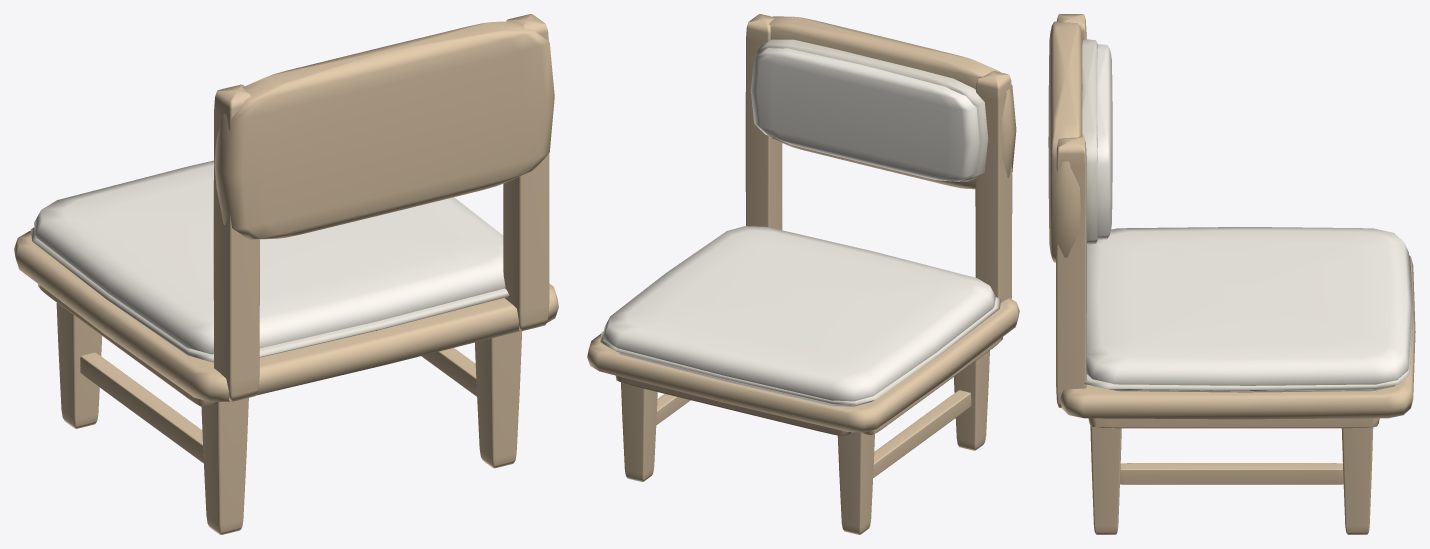
File: fixed-chair-oak-linen.glb
3 renders of one model, left to right at view 1: azimuth 30°, elevation 25°; view 2: azimuth 150°, elevation 25°; view 3: azimuth 270°, elevation 25°, orthographic. The views are drawn at different scales.
Parts seen in each view (by area): view 1: back_oak_shell, seat, seat_frame, back_post_0, back_post_1, leg_0_1, leg_1_1, seat_piping, side_stretcher_0, leg_0_0, side_stretcher_1, side_apron_0; view 2: seat, back, seat_frame, back_oak_shell, back_post_0, back_post_1, leg_0_0, back_piping, leg_1_0, side_stretcher_0, leg_0_1, seat_piping (+3 smaller); view 3: seat, seat_frame, back_oak_shell, back_post_1, side_stretcher_1, leg_1_1, leg_1_0, back, side_apron_1, back_piping, seat_piping.
Boxes of the visible parts, left/top/right/bottom form: back_oak_shell: left=214, top=21, right=554, bottom=239; seat: left=34, top=160, right=505, bottom=354; seat_frame: left=14, top=231, right=558, bottom=402; back_post_0: left=213, top=84, right=259, bottom=401; back_post_1: left=503, top=14, right=549, bottom=330; leg_0_1: left=201, top=398, right=248, bottom=534; leg_1_1: left=475, top=331, right=522, bottom=468; seat_piping: left=30, top=227, right=509, bottom=362; side_stretcher_0: left=80, top=352, right=203, bottom=463; leg_0_0: left=56, top=303, right=101, bottom=428; side_stretcher_1: left=421, top=348, right=476, bottom=396; side_apron_0: left=37, top=284, right=218, bottom=407; seat: left=603, top=226, right=995, bottom=406; back: left=750, top=48, right=979, bottom=181; seat_frame: left=587, top=298, right=1019, bottom=432; back_oak_shell: left=769, top=16, right=1016, bottom=189; back_post_0: left=975, top=71, right=1012, bottom=302; back_post_1: left=745, top=14, right=782, bottom=230; leg_0_0: left=837, top=432, right=874, bottom=534; back_piping: left=756, top=39, right=988, bottom=181; leg_1_0: left=621, top=382, right=657, bottom=481; side_stretcher_0: left=873, top=390, right=971, bottom=477; leg_0_1: left=954, top=350, right=989, bottom=450; seat_piping: left=600, top=297, right=1001, bottom=405; seat: left=1086, top=227, right=1412, bottom=392; seat_frame: left=1059, top=255, right=1415, bottom=419; back_oak_shell: left=1048, top=21, right=1082, bottom=262; back_post_1: left=1056, top=136, right=1086, bottom=407; side_stretcher_1: left=1120, top=463, right=1343, bottom=484; leg_1_1: left=1090, top=426, right=1121, bottom=534; leg_1_0: left=1341, top=427, right=1373, bottom=534; back: left=1097, top=44, right=1112, bottom=239; side_apron_1: left=1088, top=418, right=1379, bottom=428; back_piping: left=1082, top=39, right=1097, bottom=244; seat_piping: left=1084, top=256, right=1413, bottom=391.
Size of the model in its own units: 0.5 by 0.5975 by 0.4965.
